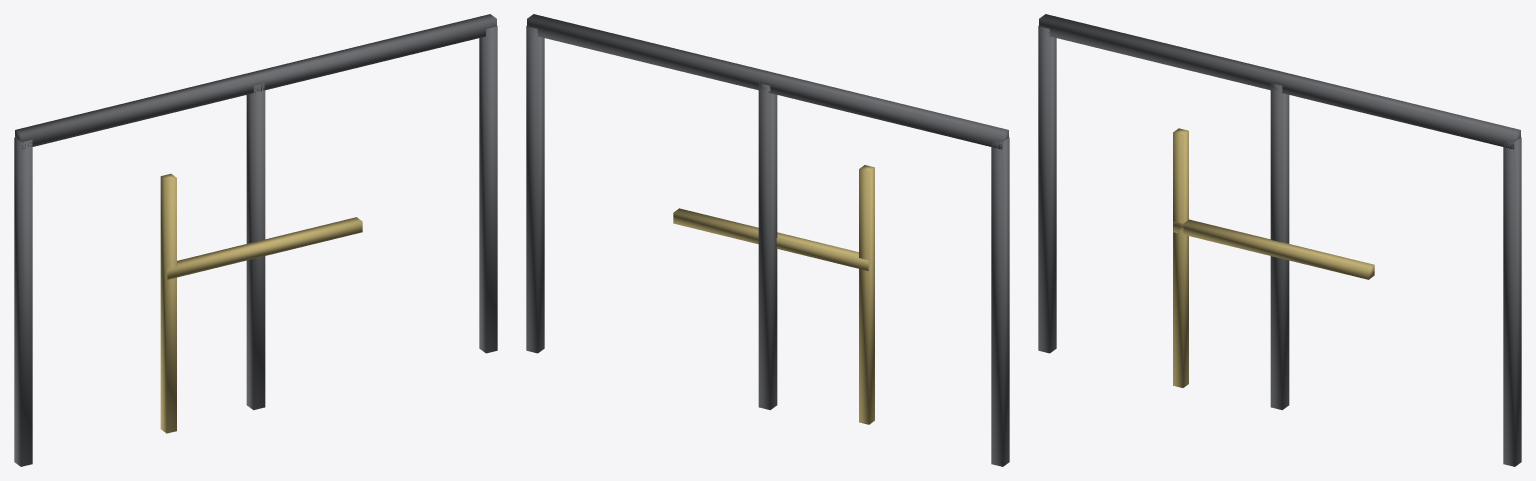
File: industrial_gate_l180_h120.glb
3 renders of one model, left to right at view 1: azimuth 30°, elevation 25°; view 2: azimuth 150°, elevation 25°; view 3: azimuth 330°, elevation 25°, orthographic.
Parts seen in each view (by area): view 1: world; view 2: world; view 3: world.
Boxes of the visible parts, box(x1,y1,x2,y2) form: world: box(14, 14, 497, 466); world: box(526, 14, 1009, 466); world: box(1038, 14, 1521, 466).
Bounding box in the file's own units: 1.85 × 1.23 × 0.0825.
